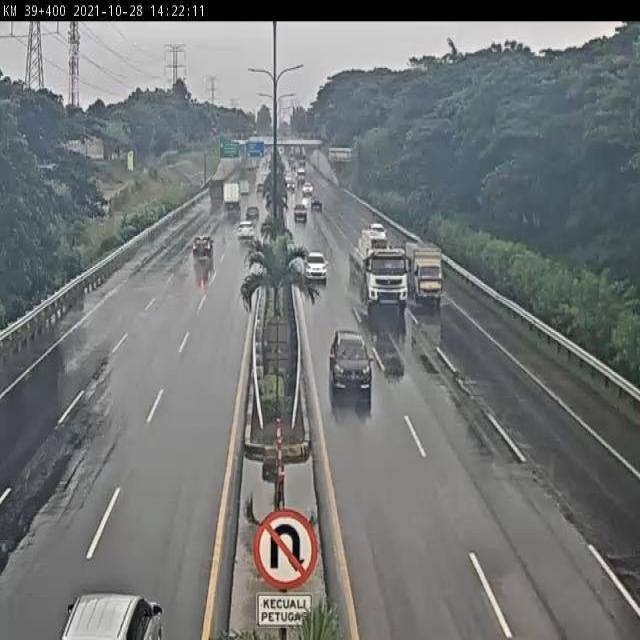car: (324, 328, 375, 403), (302, 247, 330, 285), (191, 233, 213, 263)
truck-s-: (404, 230, 446, 310)
truck-xl-: (347, 225, 410, 316)
